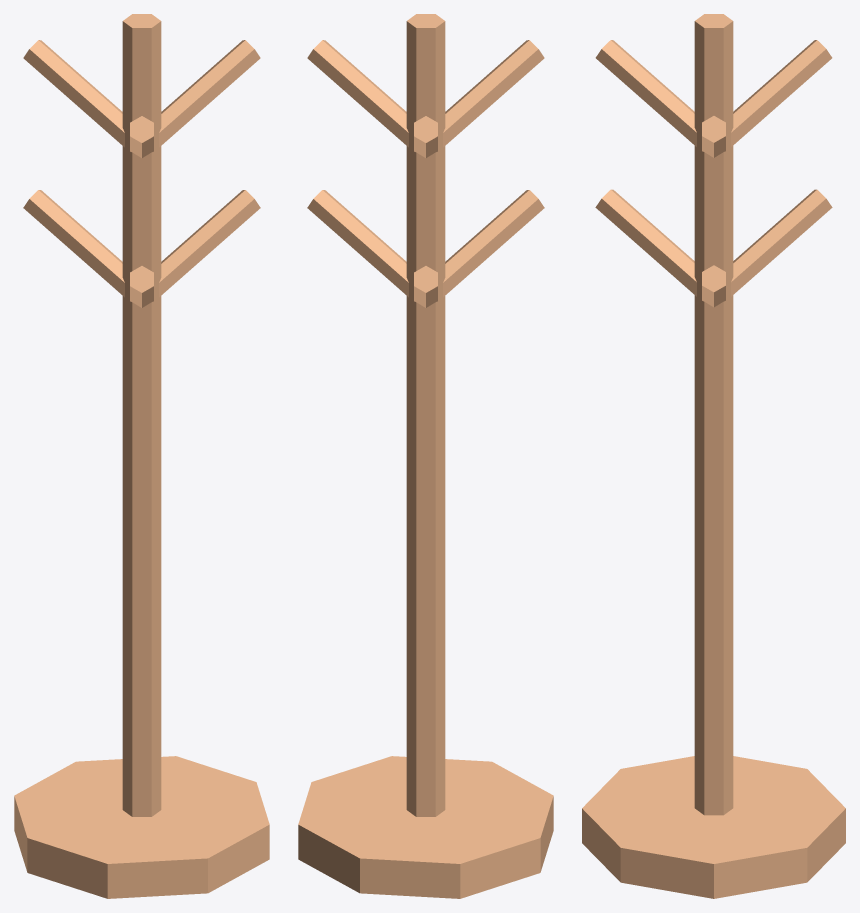
3 views of the same model, side by side, from view 1: azimuth 30°, elevation 25°; view 2: azimuth 150°, elevation 25°; view 3: azimuth 270°, elevation 25° (orthographic).
Visible parts, largest first — view 1: Foot; view 2: Foot; view 3: Foot.
Boxes of the visible parts, box(x1,y1,x2,y2) form: Foot: box(14, 14, 269, 898); Foot: box(298, 14, 553, 898); Foot: box(582, 14, 845, 898).
Size of the model in its own units: 0.483 by 1.65 by 0.48.
Materials: 1 (1 with a texture image).
